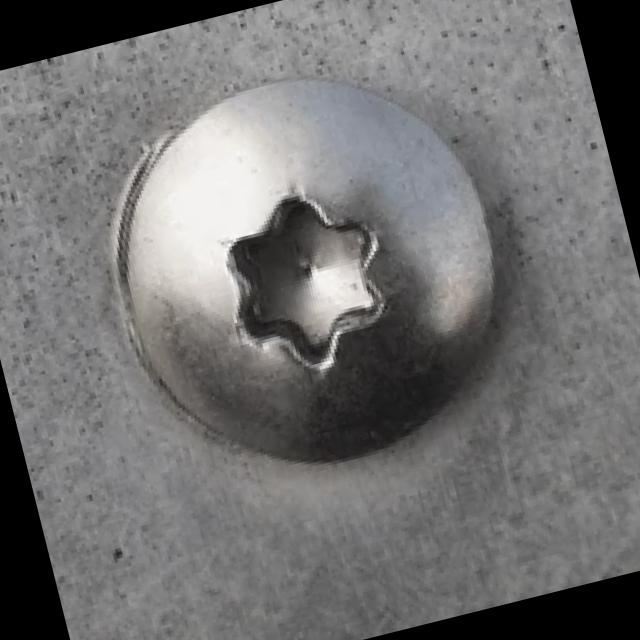Torx: (88, 42, 536, 501)
